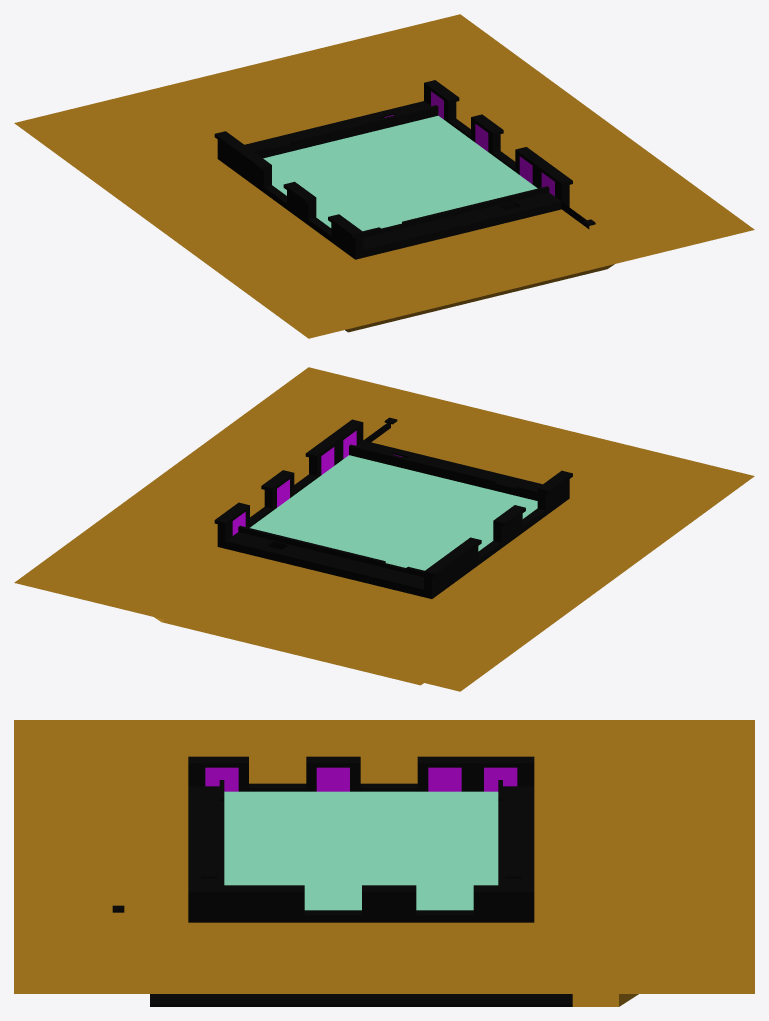
3 views of the same model, one above another, from view 1: azimuth 30°, elevation 25°; view 2: azimuth 150°, elevation 25°; view 3: azimuth 270°, elevation 25° (orthographic). The views are drawn at different scales.
Bounding box in the file's own units: 27.9 × 4.9 × 31.9.
